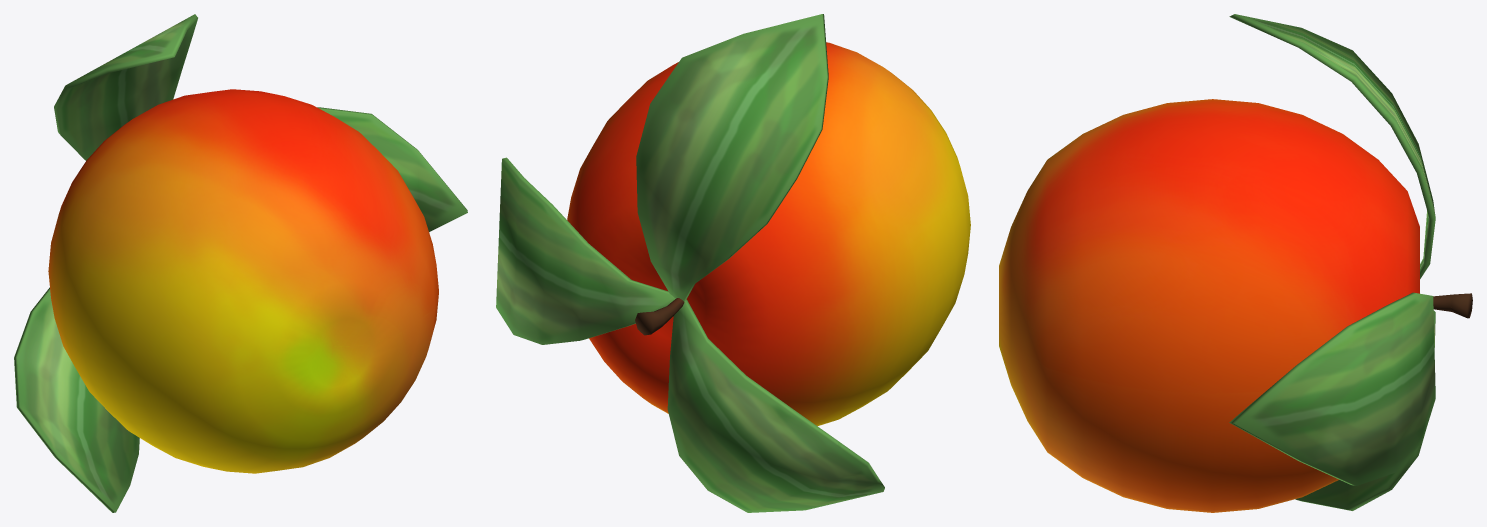
The model's file is apple.fbx.
3 renders of one model, left to right at view 1: azimuth 30°, elevation 25°; view 2: azimuth 150°, elevation 25°; view 3: azimuth 270°, elevation 25°, orthographic. The views are drawn at different scales.
Visible parts, largest first — view 1: Sphere; view 2: Sphere; view 3: Sphere.
Boxes of the visible parts, x1,y1,x2,y2 form: Sphere: [14, 14, 467, 512]; Sphere: [496, 14, 970, 512]; Sphere: [999, 14, 1472, 512].
Bounding box in the file's own units: 2.15 × 2.33 × 2.02.
